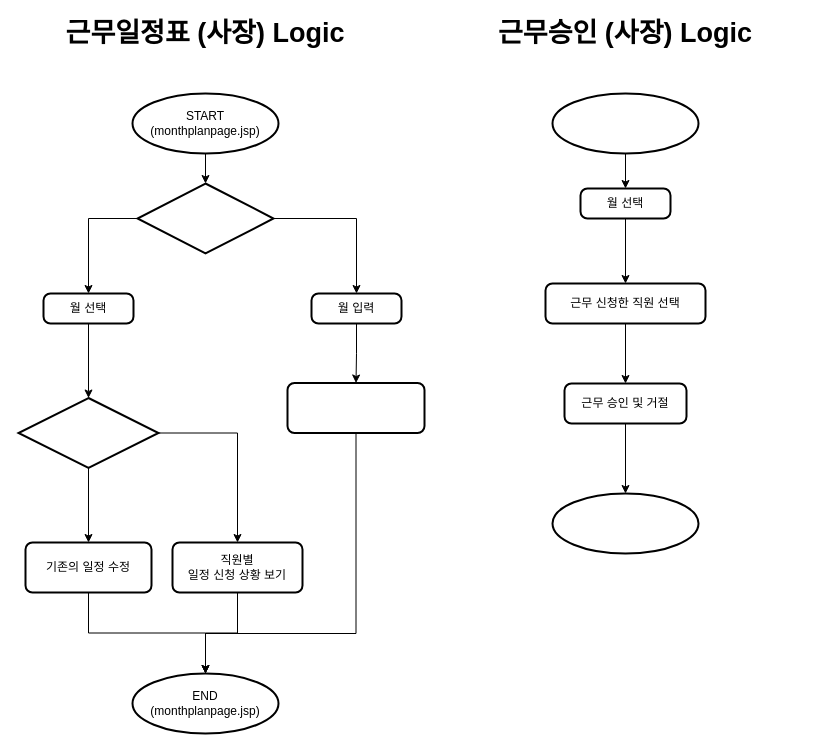
This 826x751 diagram has some shape labels left out. The shapes that lost their labels are listed below. From the top down, each one's centre as x and y in pixels, then its label:
At point (625, 123): "START (accept.jsp)".
At point (205, 218): "새로운 일정을 생성 할 것인가?".
At point (355, 408): "새로운 일정 생성".
At point (88, 432): "기존의 일정을 수정 할 것인가?".
At point (625, 523): "END (accept.jsp)".
